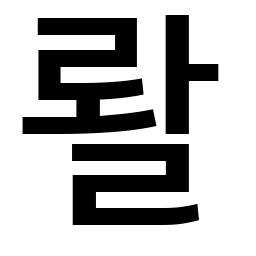Buri: (156, 6, 202, 37)
Gaji: (157, 53, 200, 94)
Kkeokim: (150, 137, 198, 171), (102, 9, 145, 44)
